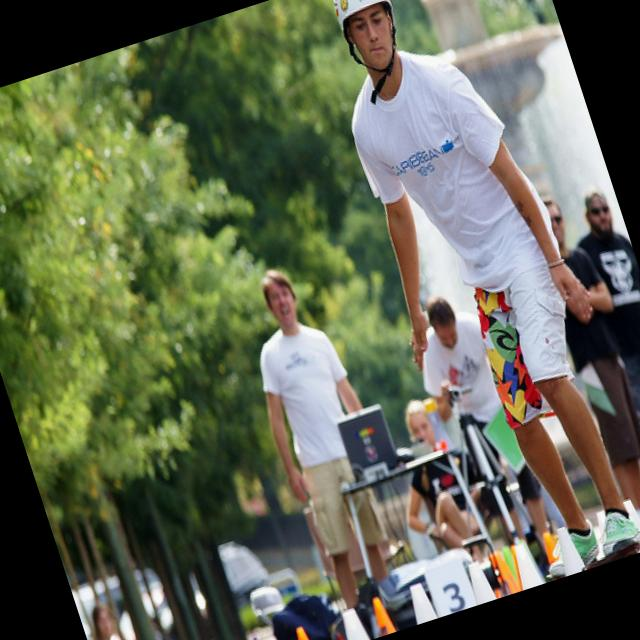Vehicle: (137, 534, 282, 640), (96, 580, 183, 640)
